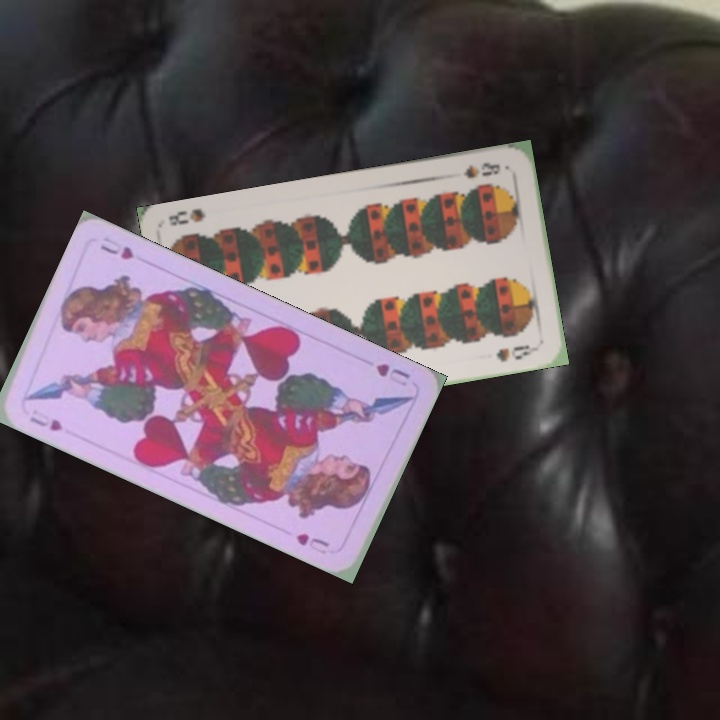HU: (372, 359, 413, 389), (25, 405, 65, 434)
S8: (460, 158, 503, 181)
